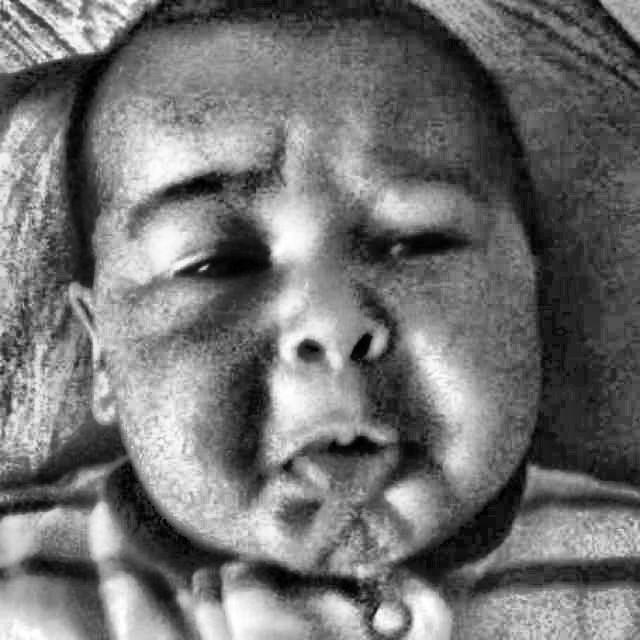sad: (113, 19, 490, 611)
